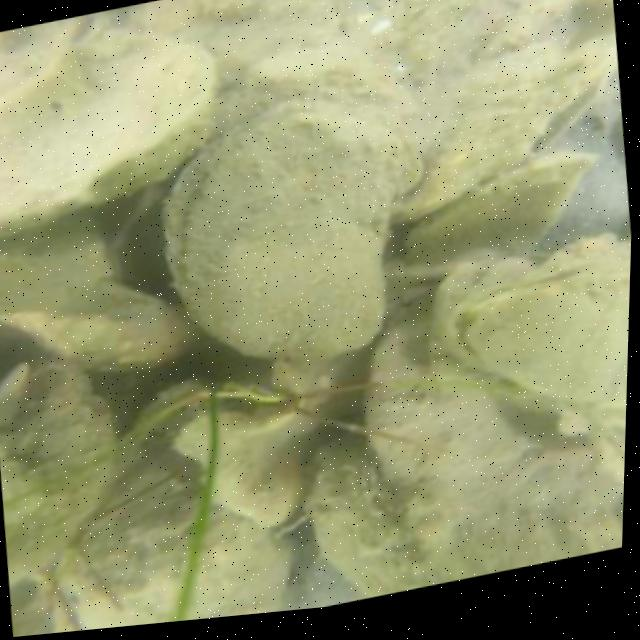Oyster-Closed: (155, 98, 423, 366), (447, 255, 630, 411)
Oyster-Indeterminate: (368, 388, 622, 578), (0, 23, 220, 240), (386, 33, 607, 225), (0, 365, 118, 585), (304, 432, 461, 596), (407, 149, 596, 281), (58, 461, 199, 630), (187, 502, 293, 620)
